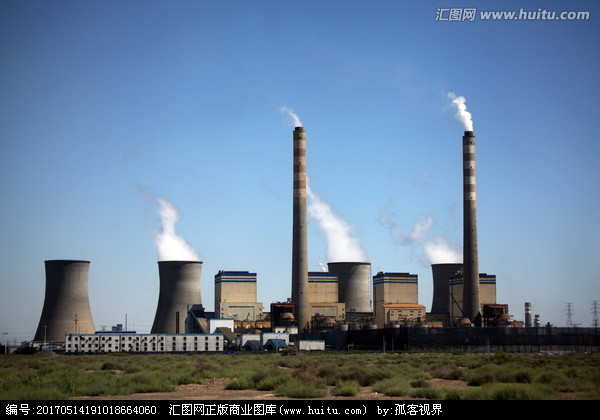dust: (127, 190, 210, 269), (301, 183, 377, 269), (406, 215, 465, 273), (445, 89, 491, 140), (276, 98, 312, 131)
